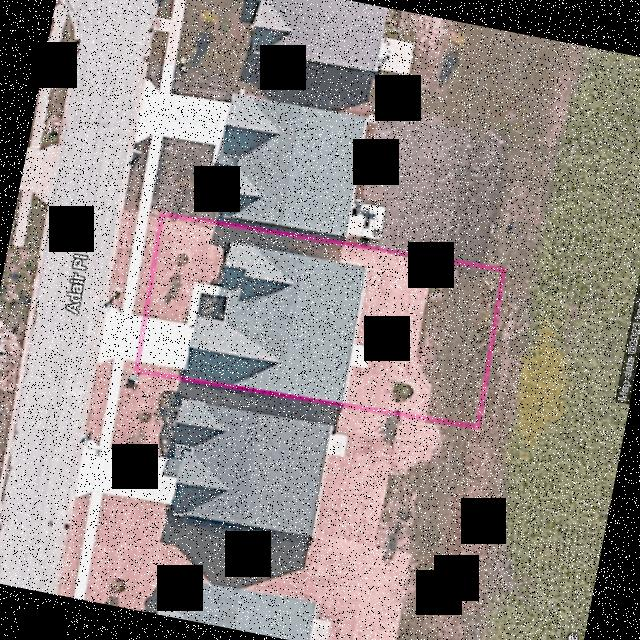Driveway: (140, 316, 196, 369)
Extra Driveway: (98, 301, 143, 365)
Extra Lawn: (109, 205, 139, 312), (134, 209, 161, 316), (99, 358, 114, 368), (124, 360, 136, 372)
Extra Sidewalk: (122, 207, 150, 314), (113, 357, 125, 370)
House: (187, 242, 366, 401)
Other: (350, 344, 371, 367)
Sidewalk: (187, 282, 231, 325)
